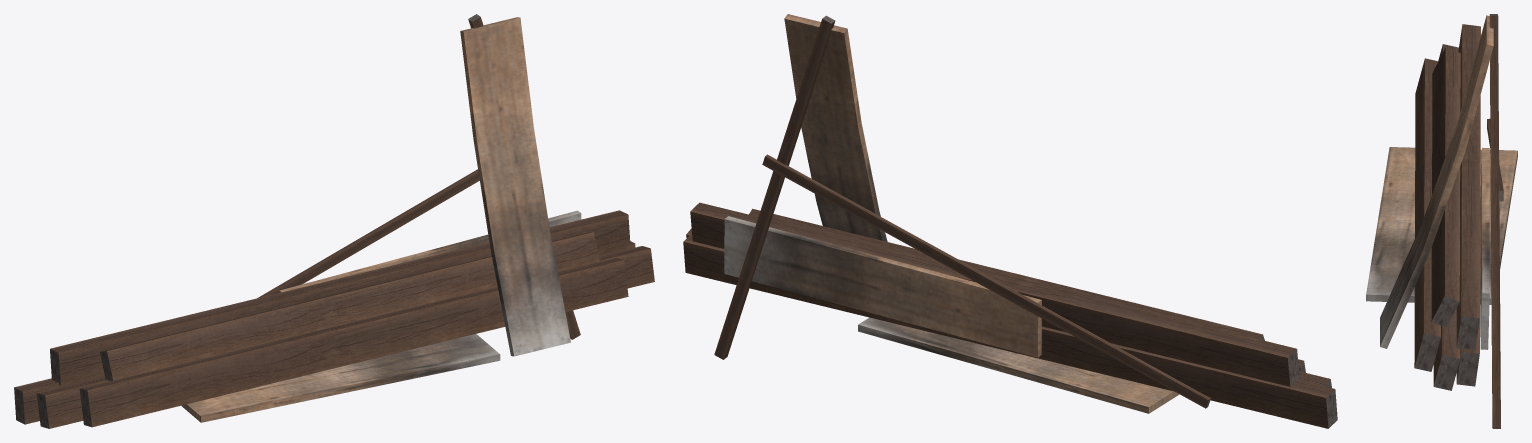
File: jov_house01prop_wood6.fbx
The picture shows the model from 3 angles, left to right: view 1: azimuth 30°, elevation 25°; view 2: azimuth 150°, elevation 25°; view 3: azimuth 270°, elevation 25°; orthographic projection. The views are drawn at different scales.
Visible parts, largest first — view 1: jov_house01prop_wood6; view 2: jov_house01prop_wood6; view 3: jov_house01prop_wood6.
Part boxes in pixels (bbox=[...]): jov_house01prop_wood6: bbox=[14, 14, 654, 428]; jov_house01prop_wood6: bbox=[683, 14, 1337, 428]; jov_house01prop_wood6: bbox=[1366, 14, 1517, 428].
Bounding box in the file's own units: 320 × 172 × 64.76.
